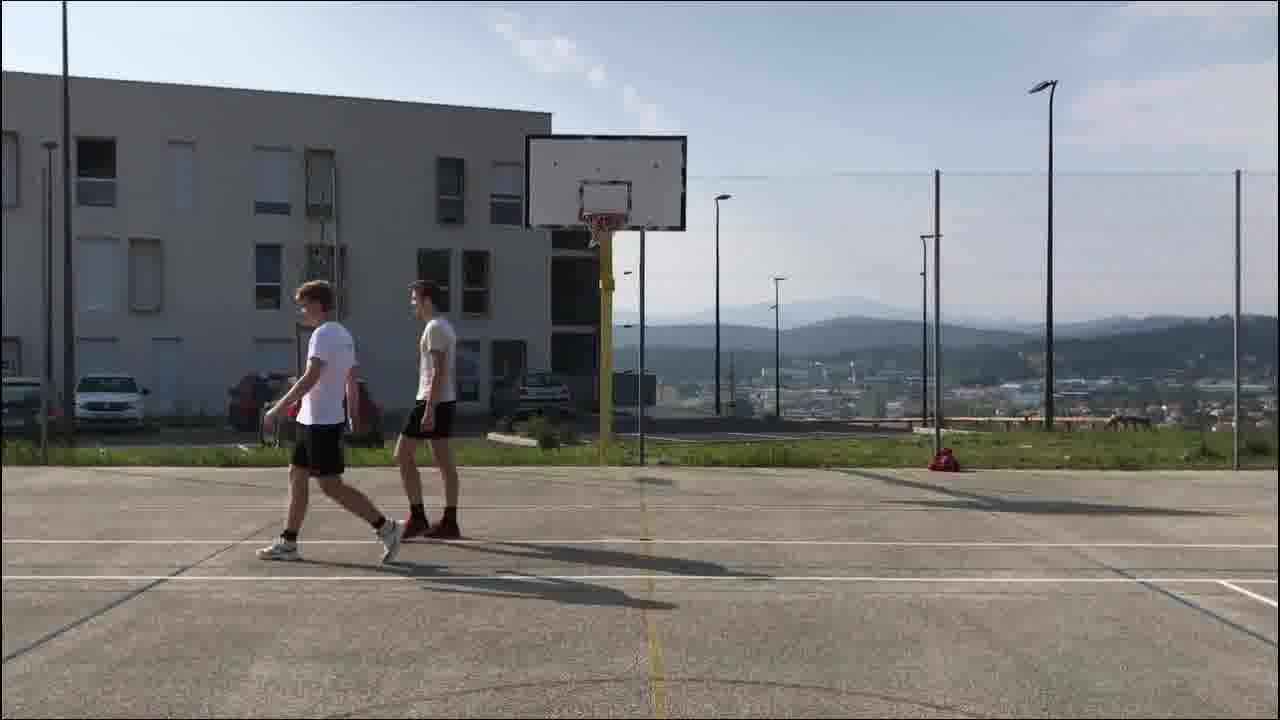jugador: (383, 271, 467, 552)
